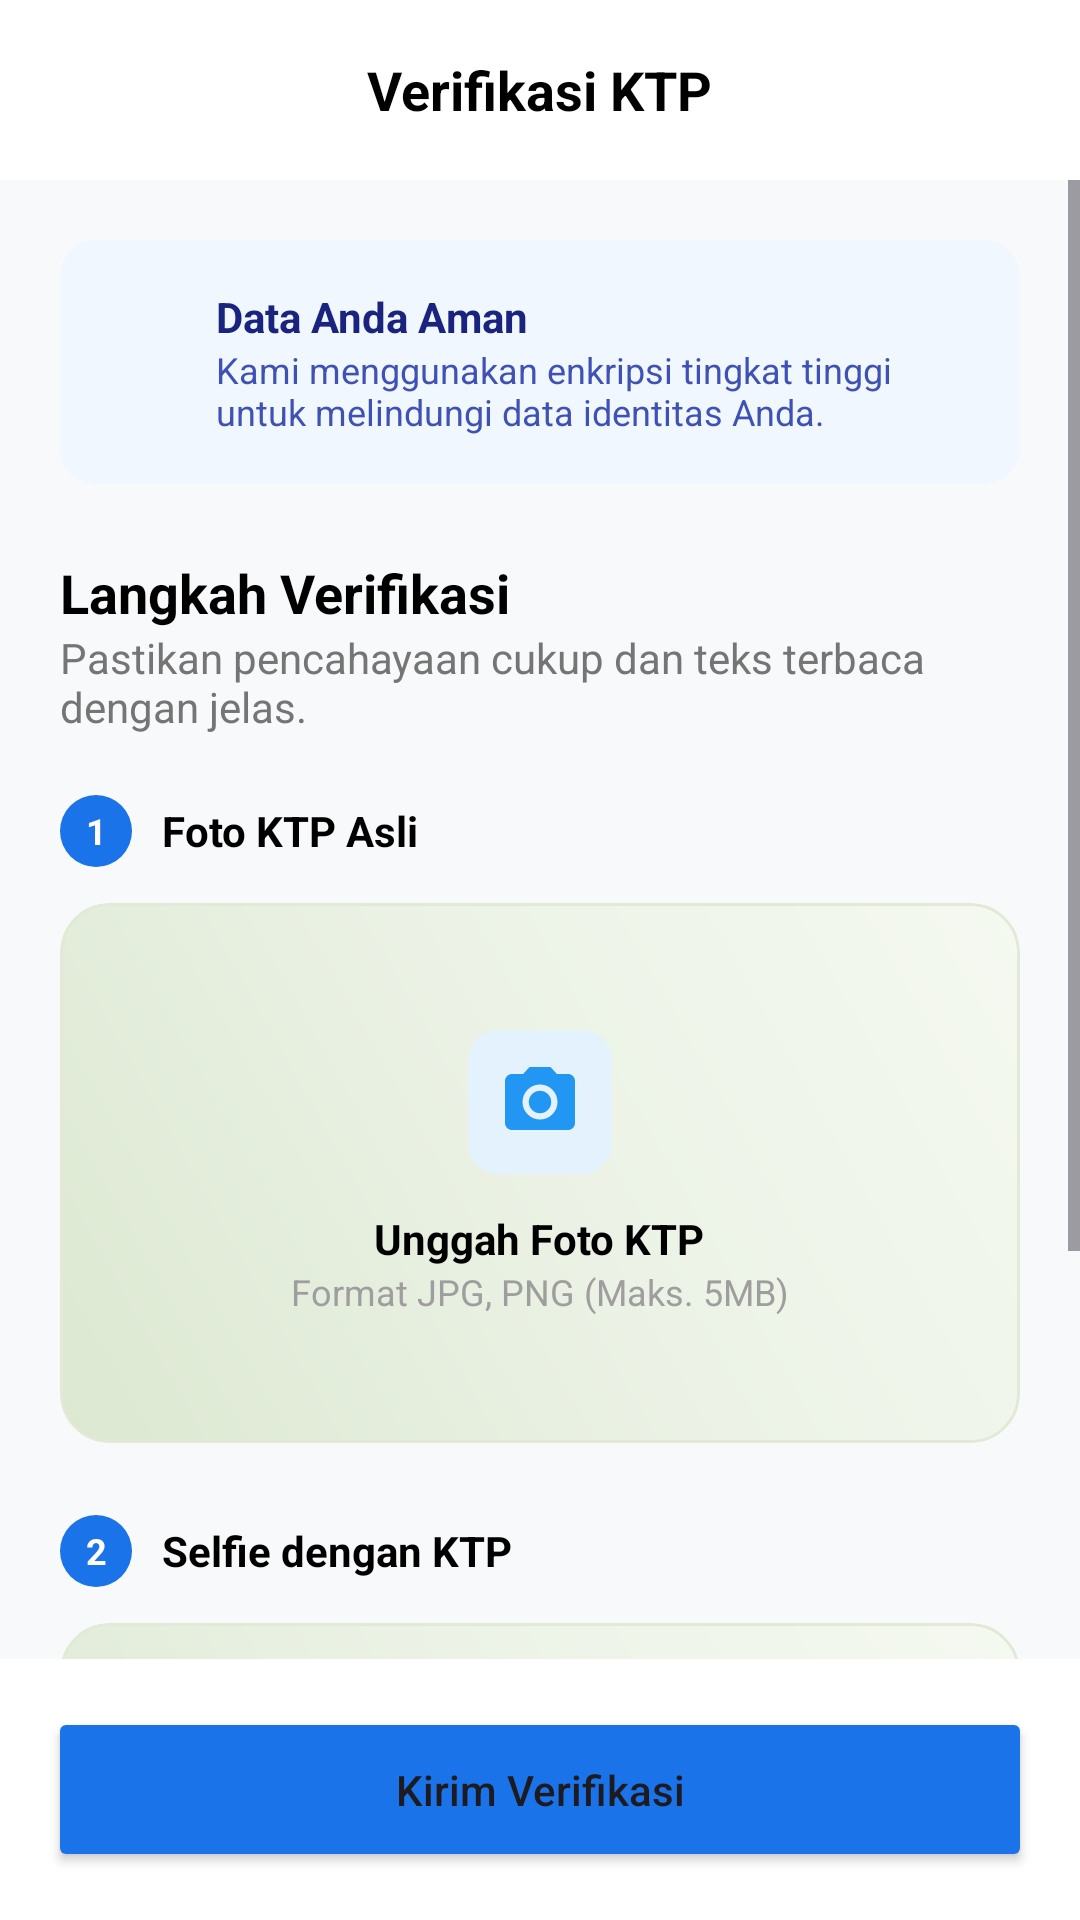

Where icons sit on this 1080 x 1920 app screen, as (x1, y1, x2, y2):
camera: (505, 1067, 575, 1130)
